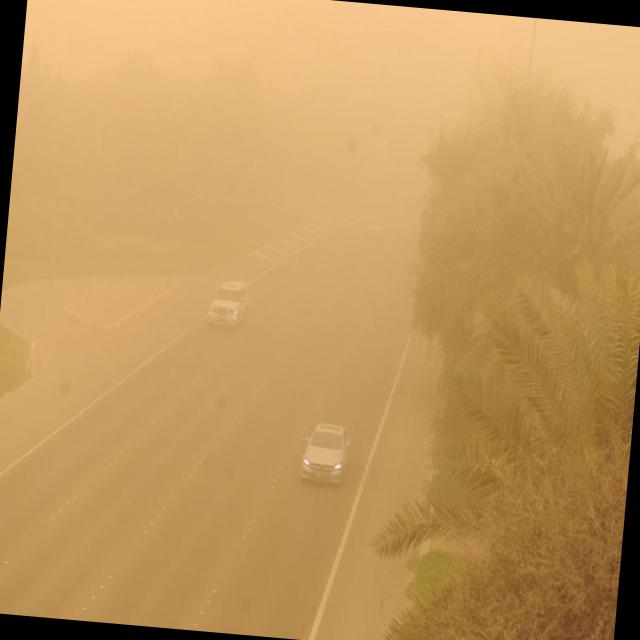car: (299, 420, 351, 485), (206, 278, 248, 329), (366, 215, 386, 239)
